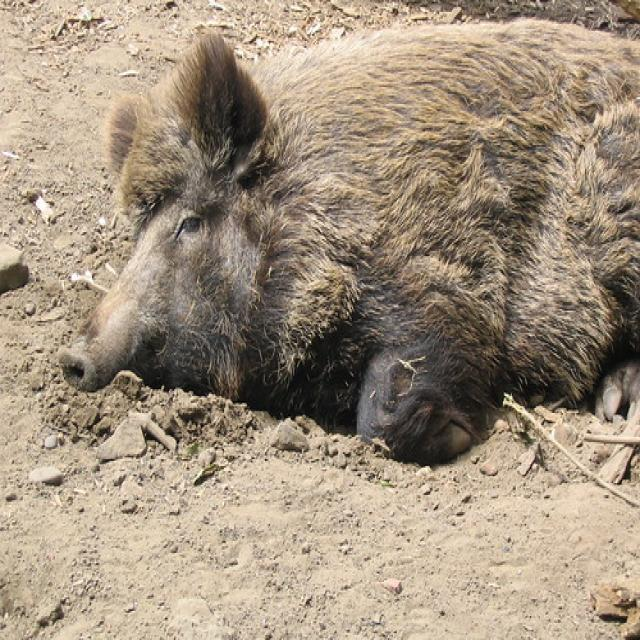boar: (42, 0, 640, 481)
